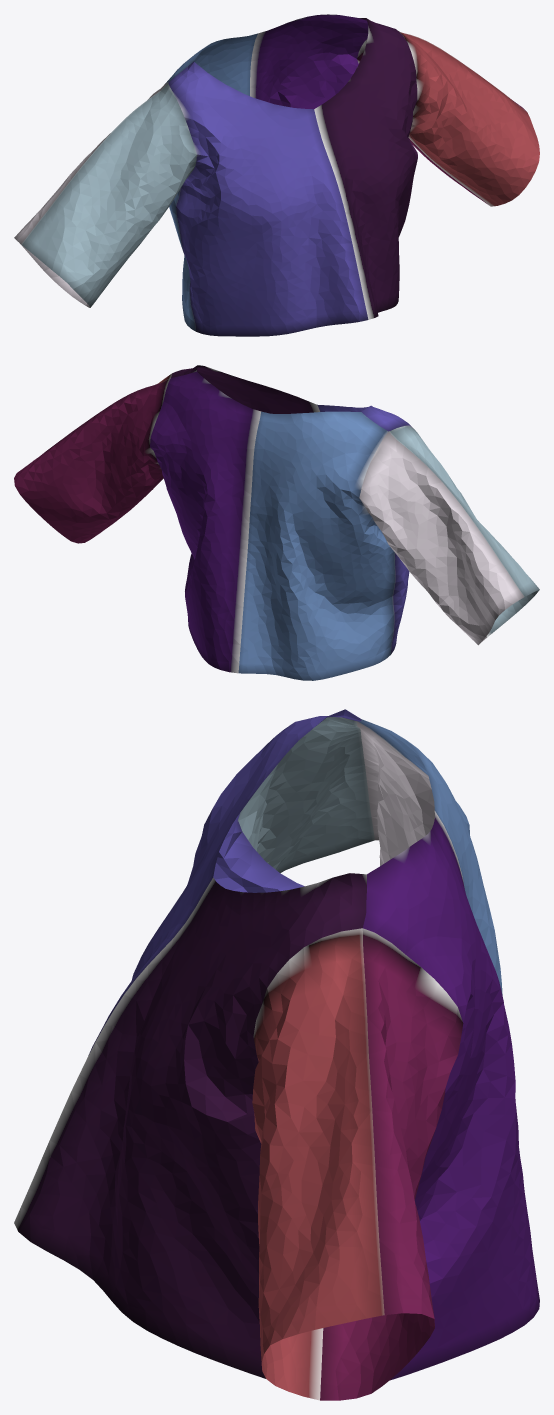
Rendered from mesh_sim.obj.
3 renders of one model, top to bottom at view 1: azimuth 30°, elevation 25°; view 2: azimuth 150°, elevation 25°; view 3: azimuth 270°, elevation 25°, orthographic. The views are drawn at different scales.
Bounding box in the file's own units: 86.15 × 42.23 × 39.31.
1 material, 1 textured.
